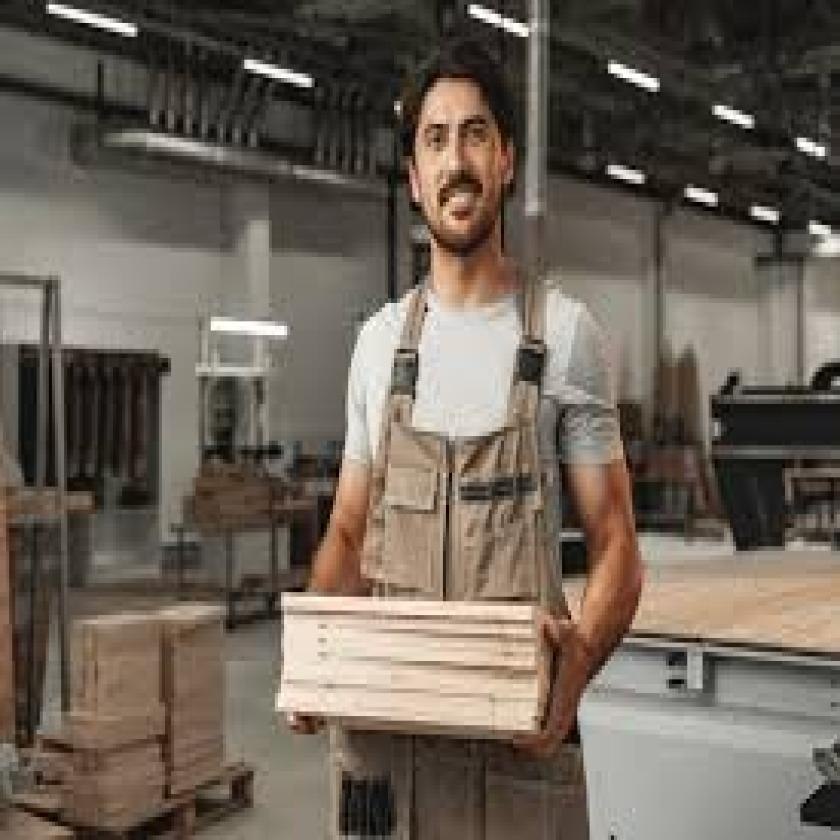Sin_casco: (386, 45, 539, 258)
